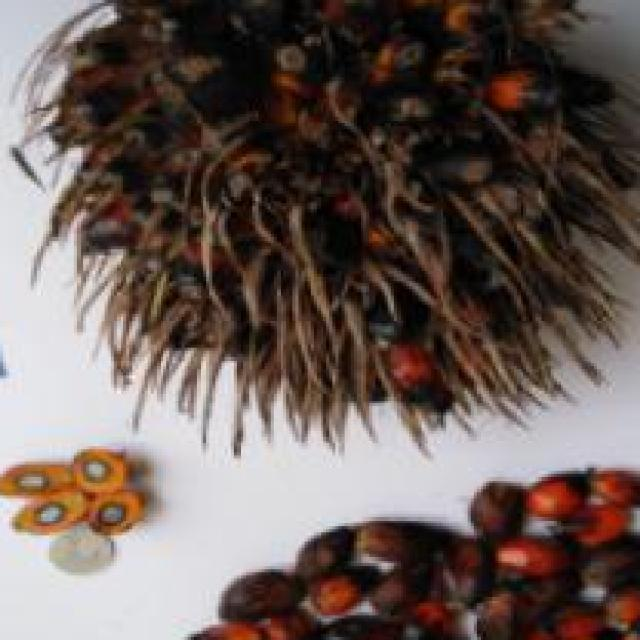unripe: (0, 0, 640, 514)
